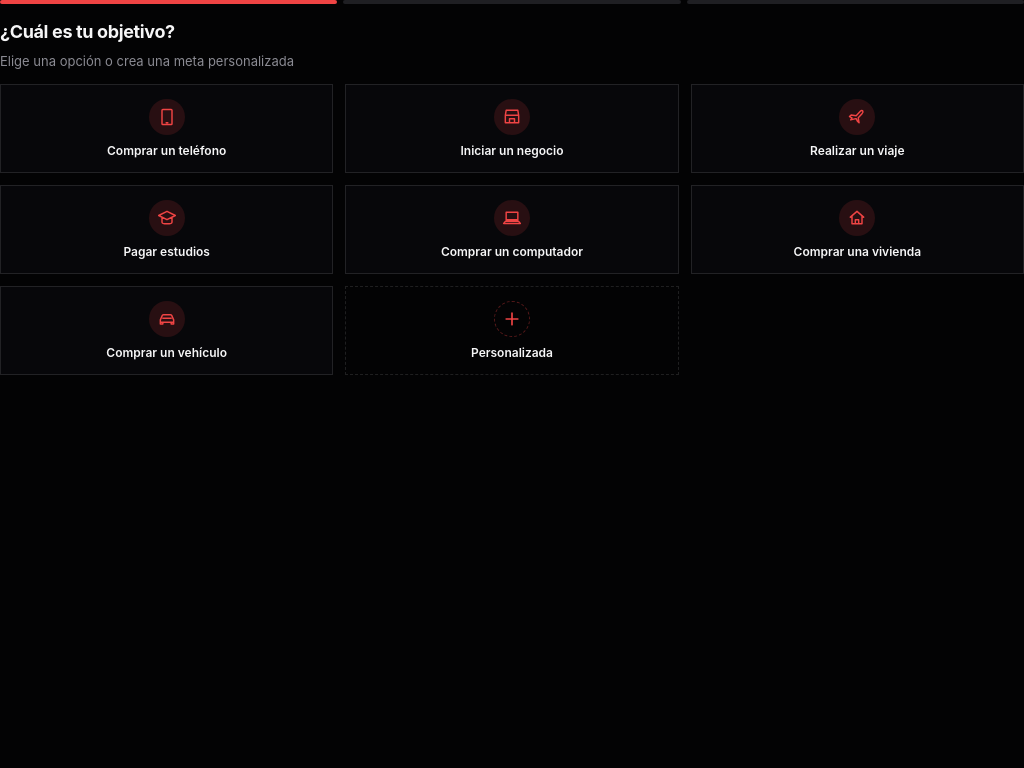
Test: CreateGoalWizard › tocar el toggle abre el sheet desde abajo, "Guardar" lo cierra y muestra el resumen
Click the button with class "type-tile-custom" at point(512, 330), box [345,286,679,375]
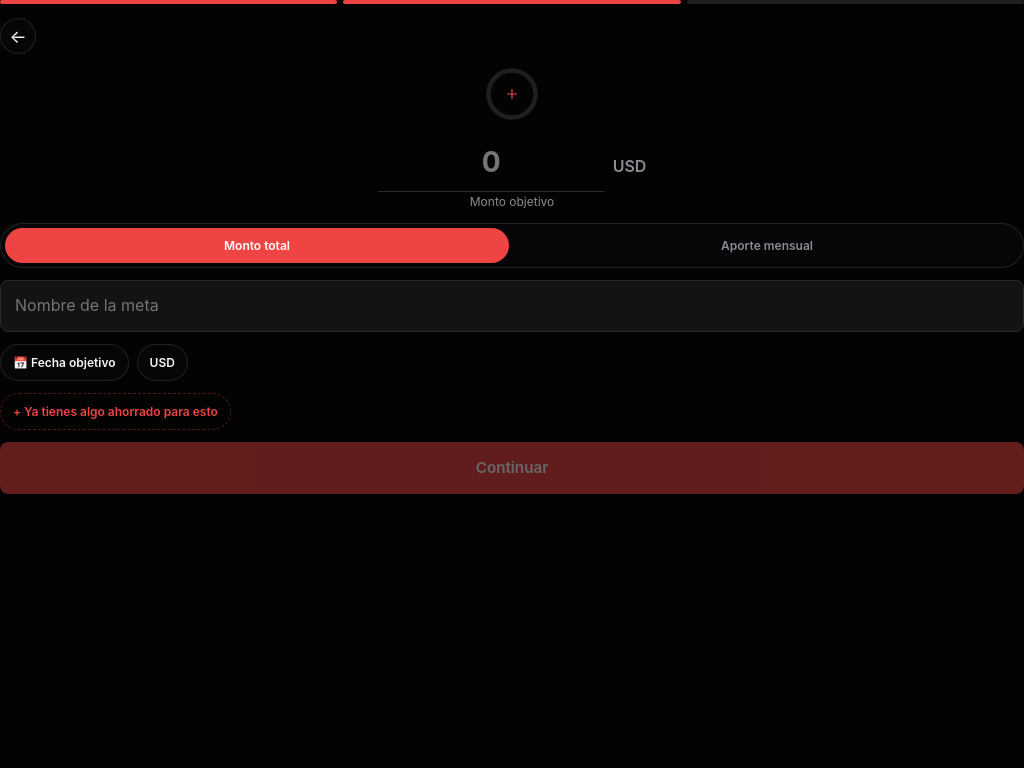
Click the button with class "initial-savings-toggle" at point(115, 412), box [0,393,231,430]
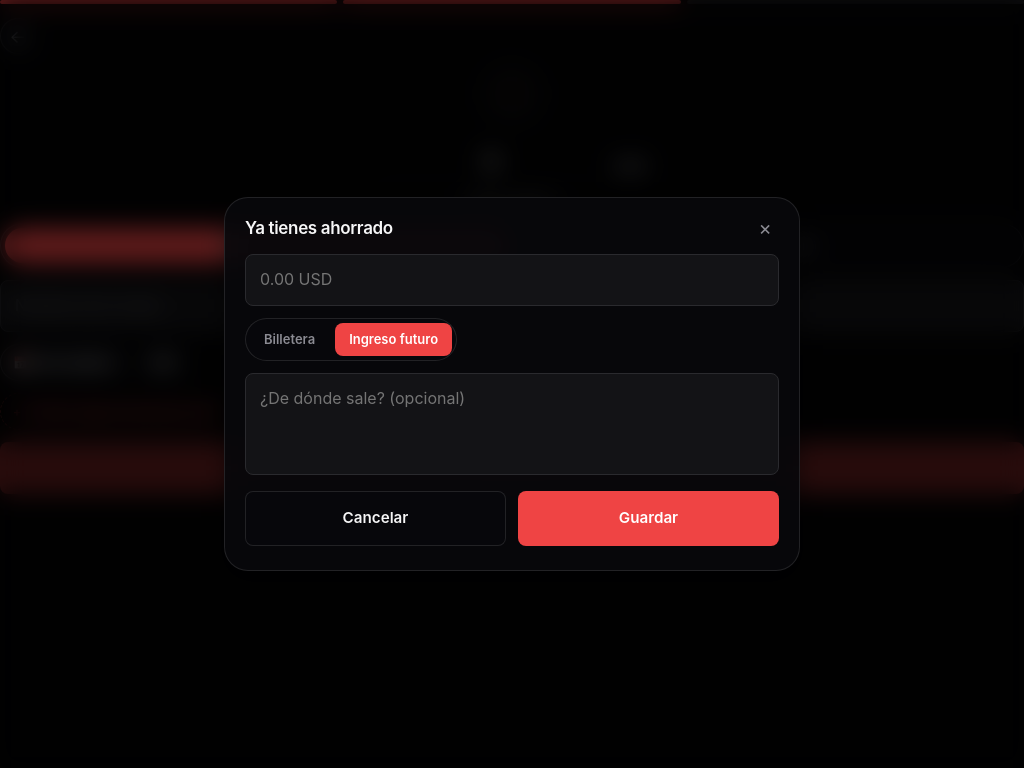
Check: the element with class "initial-savings-sheet-body" is shown, box [245,254,779,546]
Type "700" into the field with class "initial-savings-amount-input" at point(512, 280), box [245,254,779,306]
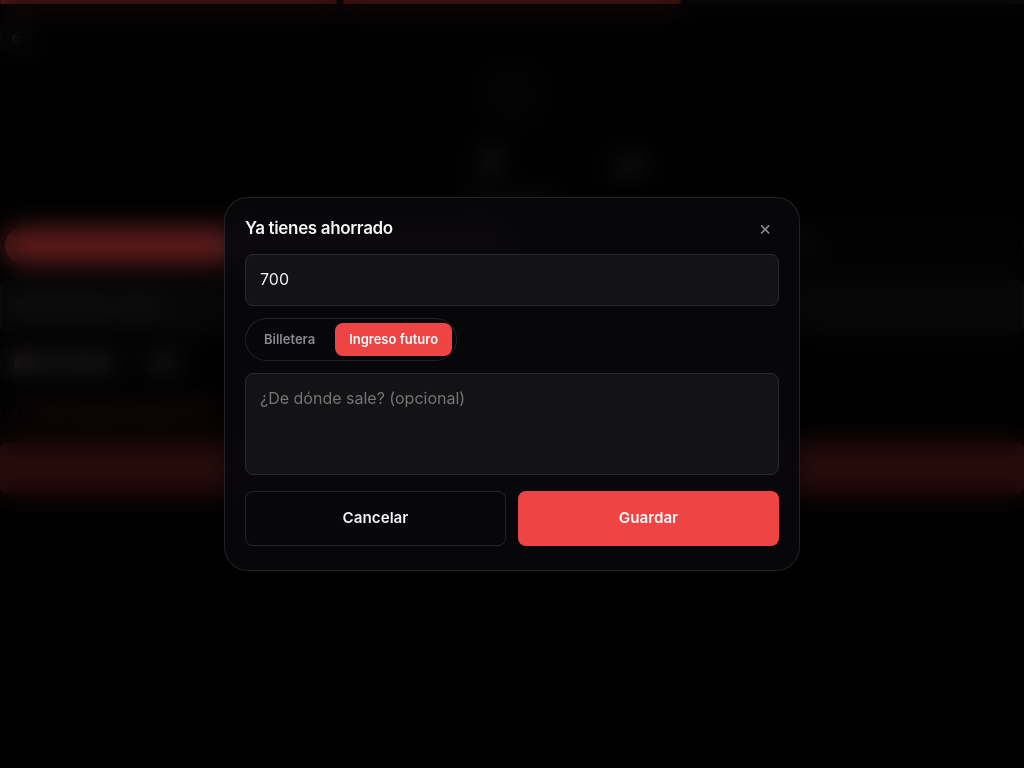
Click the button "Guardar" at point(648, 519), box [518,491,779,546]
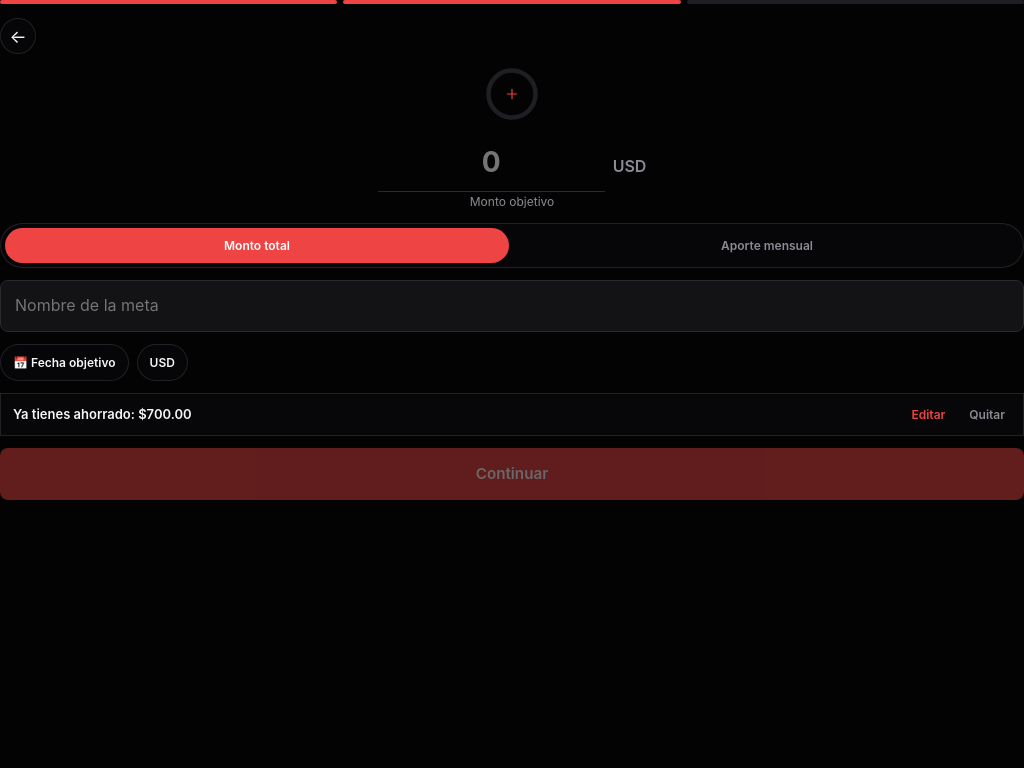
Check: the element with class "initial-savings-summary" shows "$700.00", box [13,406,192,422]
